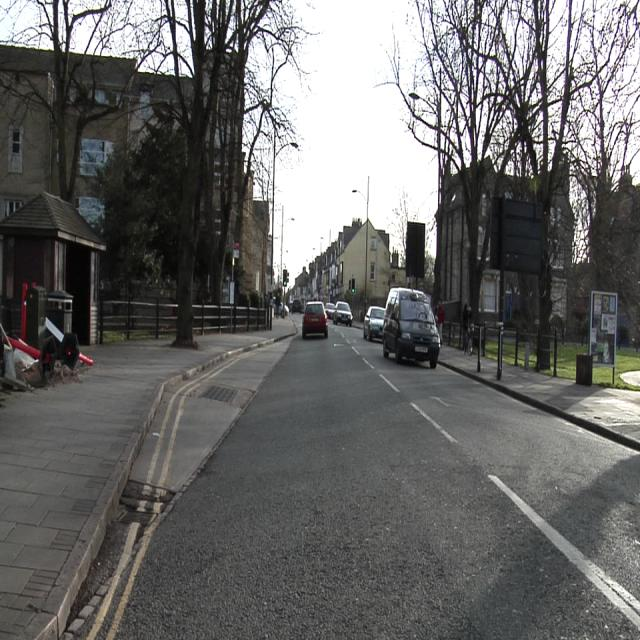Building: (289, 219, 391, 309)
Car: (383, 289, 439, 365), (303, 301, 327, 337), (363, 307, 383, 339), (333, 302, 351, 325)
Road: (105, 324, 636, 639)
Tree: (4, 2, 307, 345), (376, 3, 639, 345)
